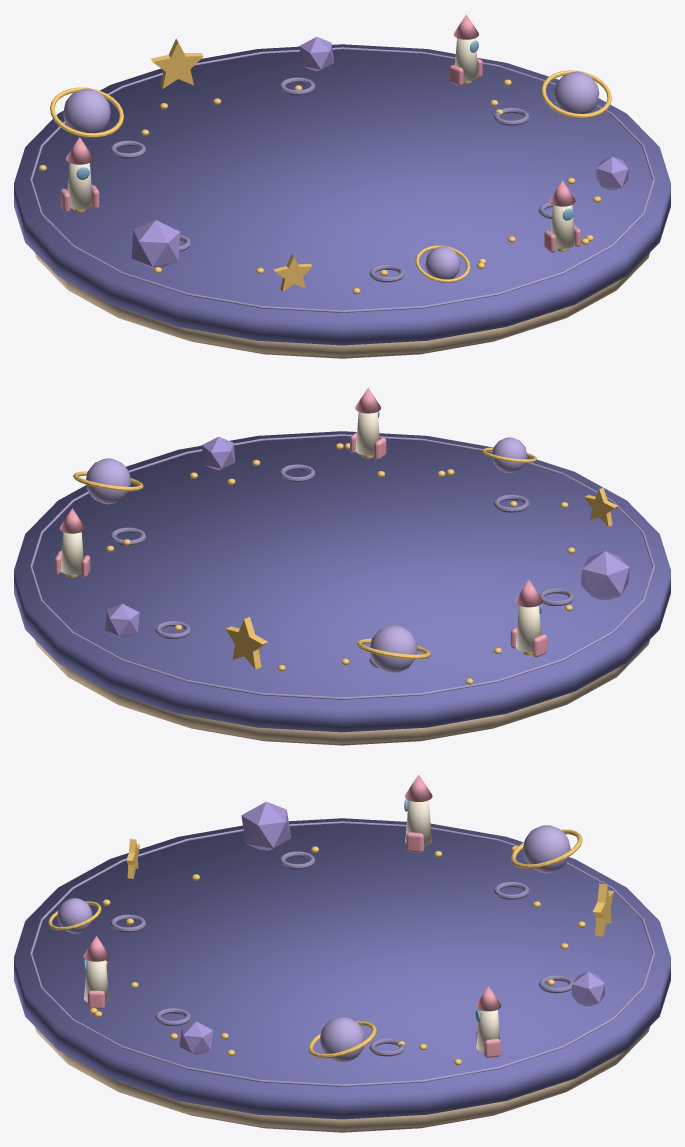
File: world.glb
3 views of the same model, one above another, from view 1: azimuth 30°, elevation 25°; view 2: azimuth 150°, elevation 25°; view 3: azimuth 270°, elevation 25° (orthographic).
Parts seen in each view (by area): view 1: Cone, Cone.001, Torus.134, planet.002, planet.001, gem.002, rocket.002, rocket.003, rocket.001, planet.003, star.001, gem.001 (+3 smaller); view 2: Cone, Cone.001, Torus.134, planet.002, planet.001, rocket.002, gem.002, rocket.003, rocket.001, planet.003, star.001, gem.001 (+3 smaller); view 3: Cone, Cone.001, Torus.134, planet.002, planet.001, gem.002, rocket.002, rocket.003, rocket.001, planet.003, gem.001, gem.003 (+2 smaller).
Boxes of the visible parts, box(x1,y1,x2,y2) form: Cone: box(14, 44, 670, 345); Cone.001: box(34, 252, 650, 357); Torus.134: box(30, 47, 654, 312); planet.002: box(50, 87, 123, 137); planet.001: box(541, 70, 611, 118); gem.002: box(131, 220, 180, 268); rocket.002: box(60, 137, 99, 212); rocket.003: box(544, 180, 580, 252); rocket.001: box(450, 14, 482, 85); planet.003: box(415, 245, 470, 282); star.001: box(151, 39, 203, 88); gem.001: box(299, 37, 334, 71); Cone: box(14, 431, 670, 732); Cone.001: box(34, 639, 650, 744); Torus.134: box(30, 434, 654, 699); planet.002: box(356, 625, 430, 672); planet.001: box(73, 458, 143, 504); rocket.002: box(510, 580, 547, 657); gem.002: box(581, 551, 629, 599); rocket.003: box(350, 387, 386, 459); rocket.001: box(54, 508, 90, 577); planet.003: box(482, 437, 536, 472); star.001: box(225, 617, 267, 669); gem.001: box(105, 603, 139, 638); Cone: box(14, 818, 670, 1119); Cone.001: box(34, 1026, 650, 1131); Torus.134: box(30, 821, 654, 1086); planet.002: box(511, 825, 582, 873); planet.001: box(308, 1017, 376, 1062); gem.002: box(241, 801, 291, 850); rocket.002: box(404, 774, 432, 852); rocket.003: box(83, 936, 109, 1009); rocket.001: box(475, 986, 501, 1057); planet.003: box(48, 898, 101, 933); gem.001: box(571, 972, 605, 1006); gem.003: box(179, 1021, 213, 1054).
Size of the model in its own units: 9.6 by 1.95 by 9.6.
